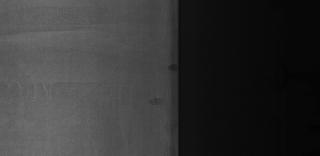oil spot: (148, 93, 164, 109), (166, 60, 178, 72)
